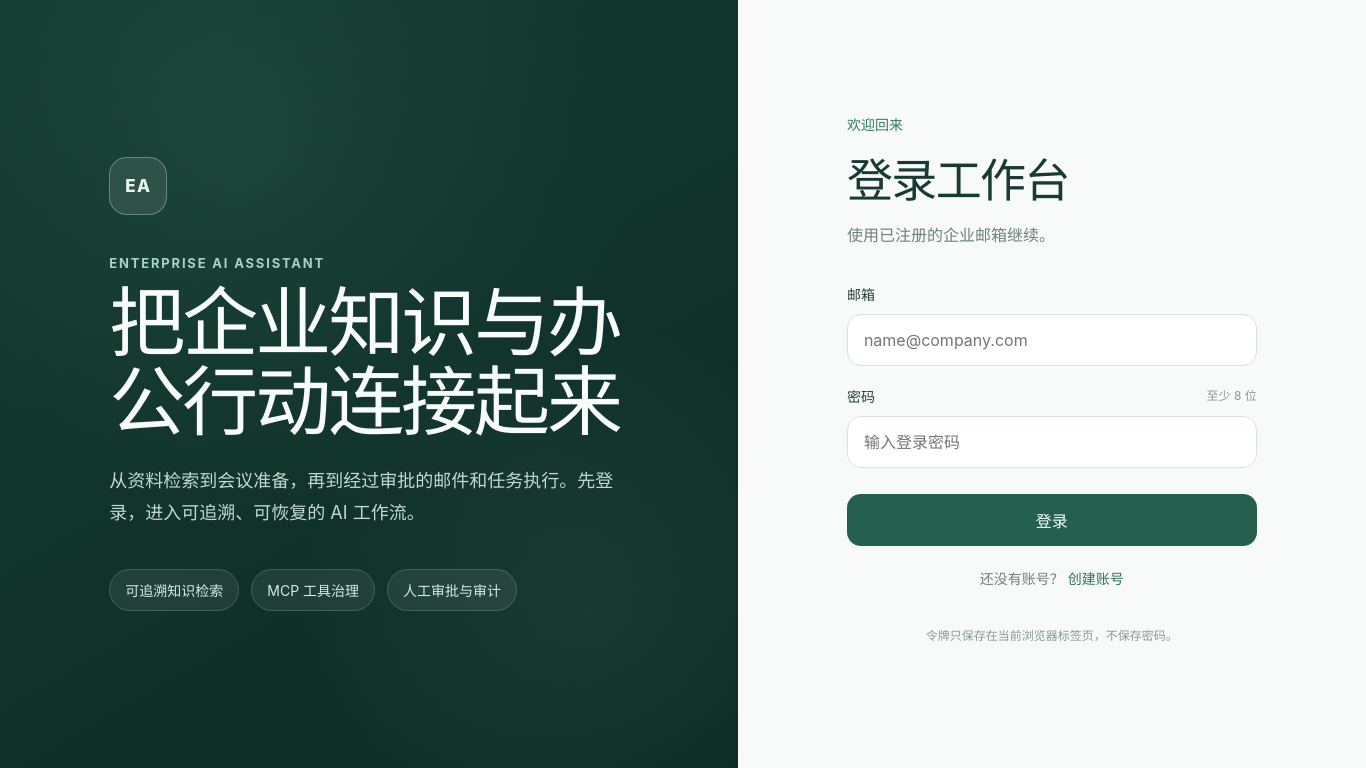
Test case: LoginView › 后端业务错误显示中文提示并恢复按钮
This screenshot has width=1366, height=768.
In the field with test id "email": point(1052, 340) [847,314,1257,366], type " Demo@Example.com "
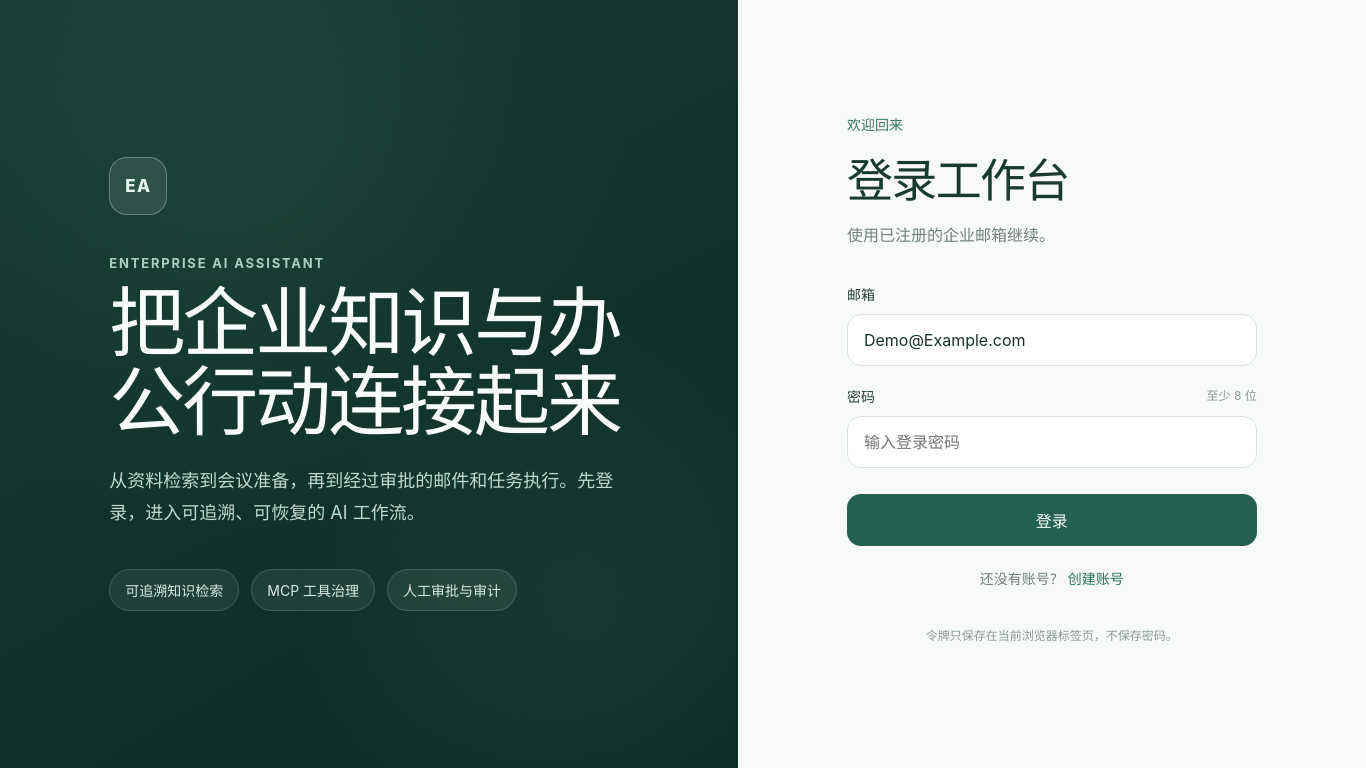
In the password field with test id "password": point(1052, 442) [847,416,1257,468], type "password123"
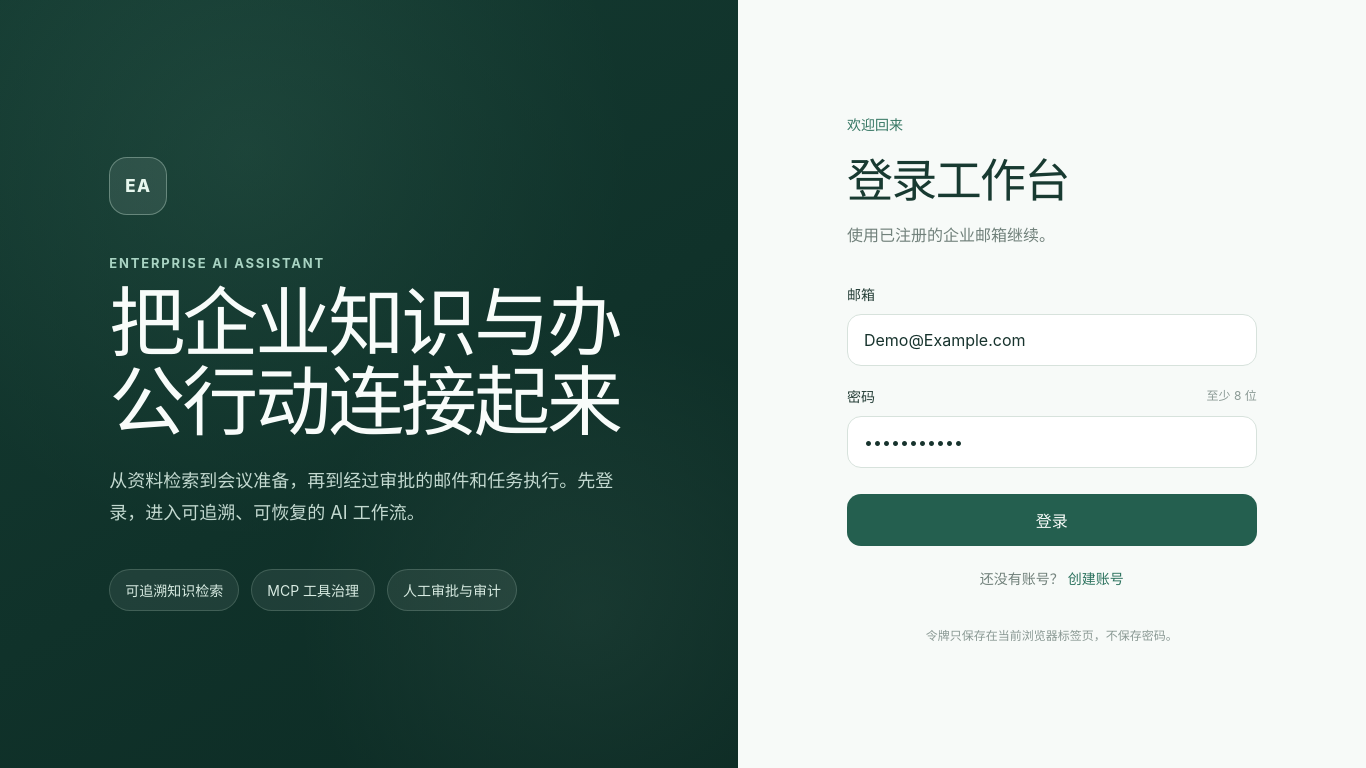
Submit the form, box [847,284,1257,546]
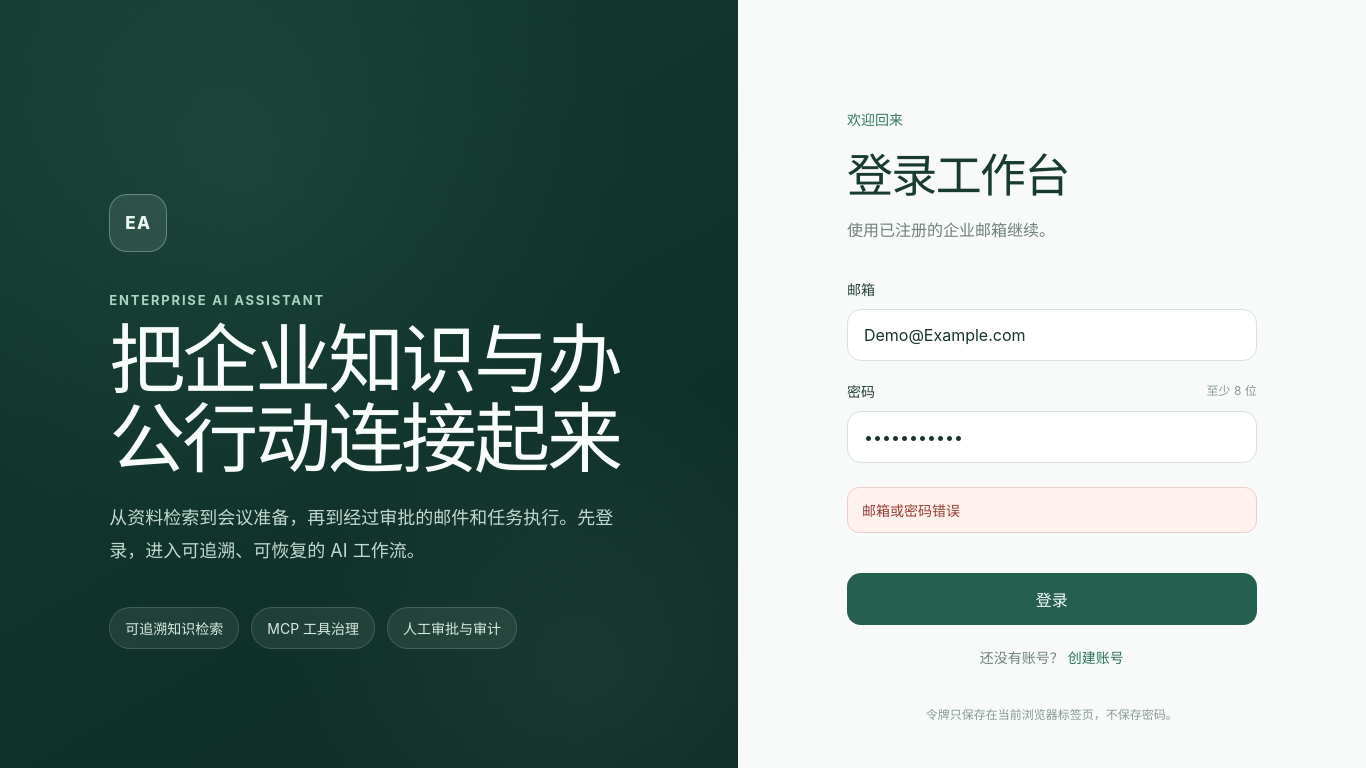
Check: the submit button is enabled, box [847,573,1257,625]
Check: the message "邮箱或密码错误" is shown, box [847,487,1257,533]
